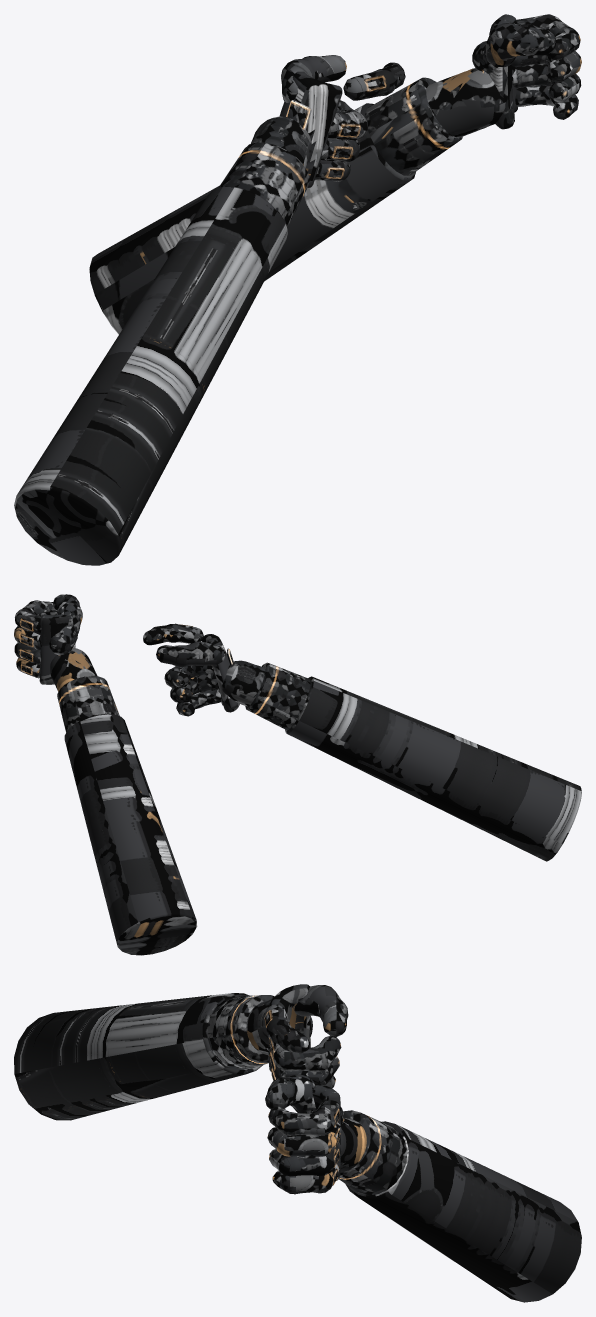
File: fp_arms_aug.gltf
The picture shows the model from 3 angles, top to bottom: view 1: azimuth 30°, elevation 25°; view 2: azimuth 150°, elevation 25°; view 3: azimuth 270°, elevation 25°; orthographic projection. The views are drawn at different scales.
Visible parts, largest first — view 1: fp_arms_aug; view 2: fp_arms_aug; view 3: fp_arms_aug.
Part boxes in pixels (<box>): fp_arms_aug: <box>14,14,581,565</box>; fp_arms_aug: <box>14,594,581,955</box>; fp_arms_aug: <box>14,984,581,1302</box>.
Bounding box in the file's own units: 0.6119 × 0.3128 × 0.4894.
1 material, 1 textured.
